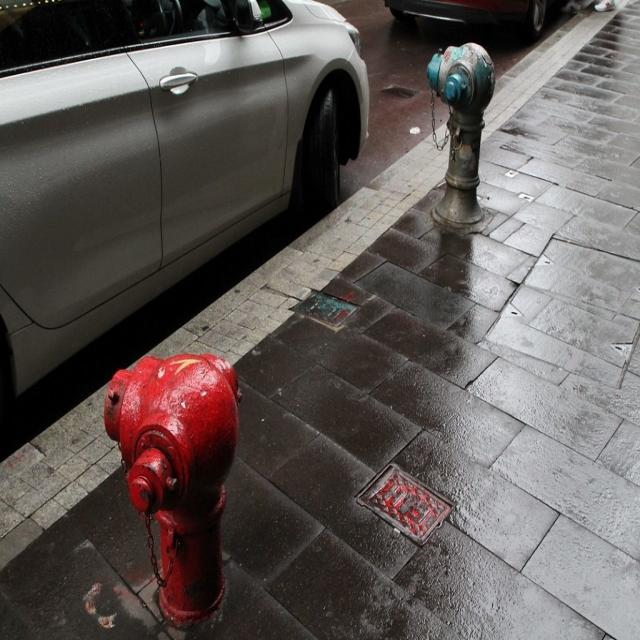fire_hydrant: (97, 318, 294, 610), (398, 27, 531, 288)
